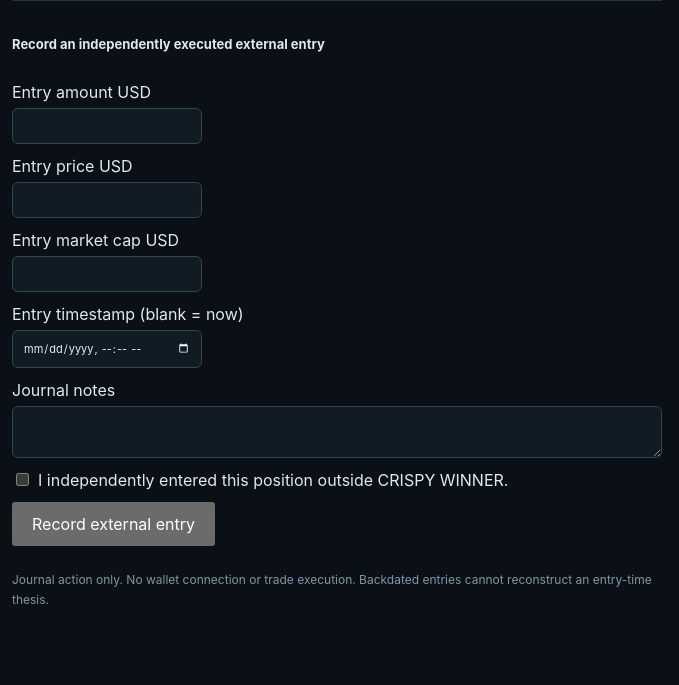
Test: external position form requires positive values and explicit confirmation
Click the button "Record external entry": click(114, 524) x1=12 y1=502 x2=215 y2=546
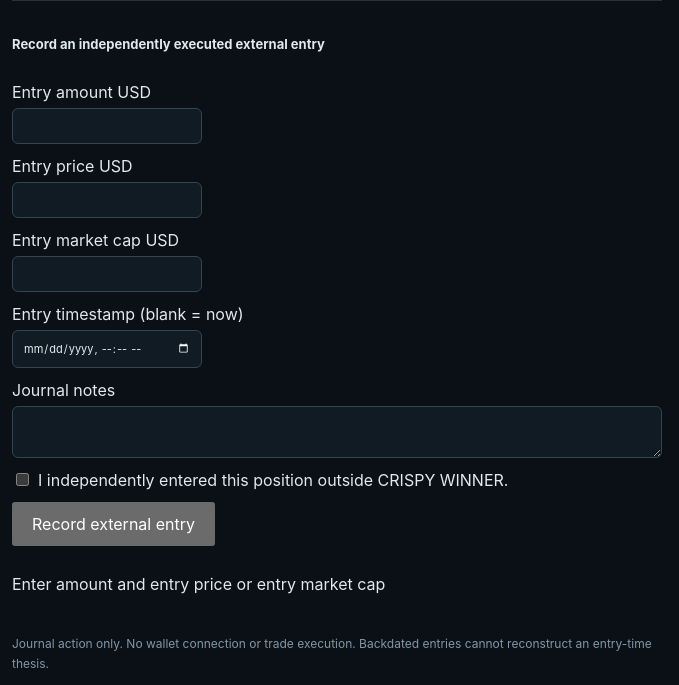
Now the text "Enter amount and entry price or entry market cap" is shown, box x1=12 y1=574 x2=385 y2=594
In the field labelled "Entry amount USD": (107, 126) x1=12 y1=108 x2=202 y2=144, type "4"
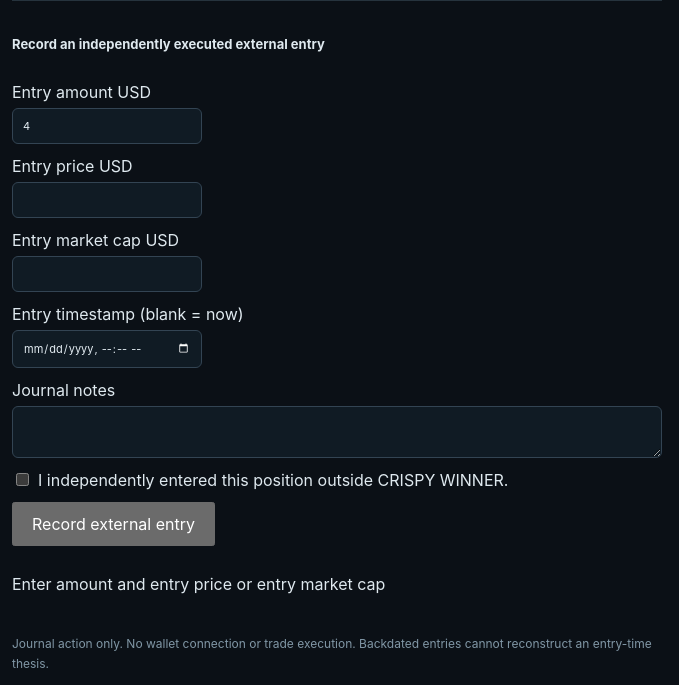
In the field labelled "Entry price USD": (107, 200) x1=12 y1=182 x2=202 y2=218, type "1"
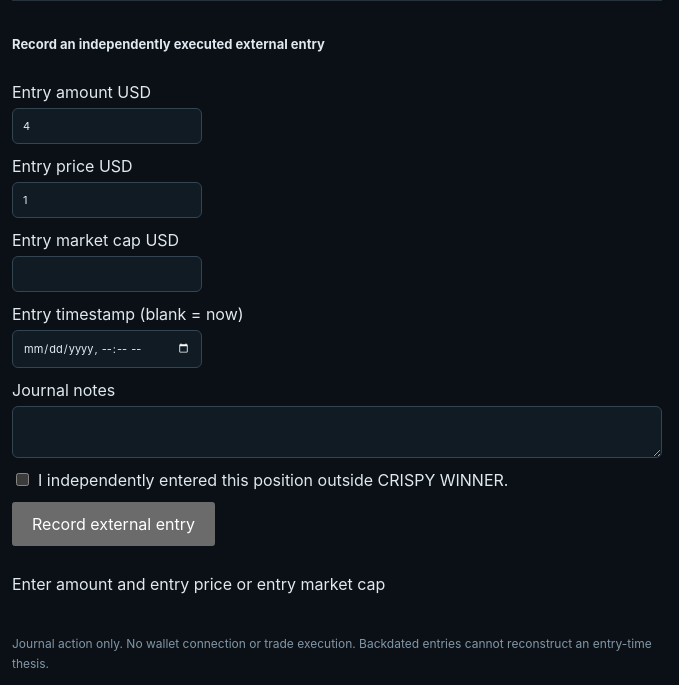
Click the button "Record external entry": click(114, 524) x1=12 y1=502 x2=215 y2=546
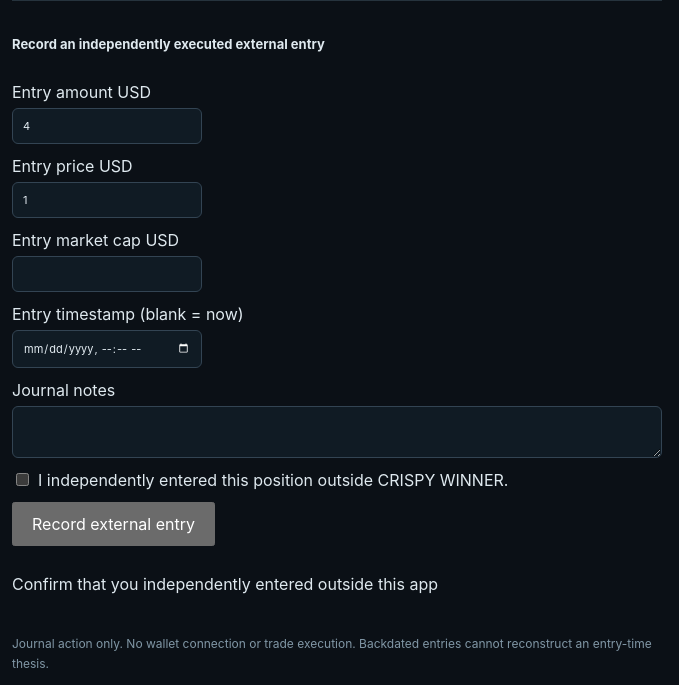
Now the text "Confirm that you independently entered outside this app" is shown, box x1=12 y1=574 x2=438 y2=594
Click the checkbox: click(22, 480) x1=16 y1=473 x2=29 y2=486
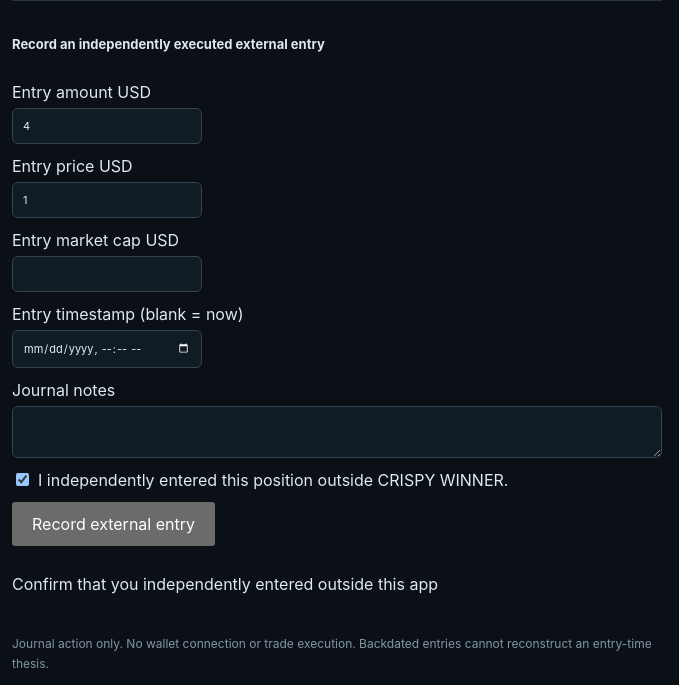
Click the button "Record external entry": click(114, 524) x1=12 y1=502 x2=215 y2=546
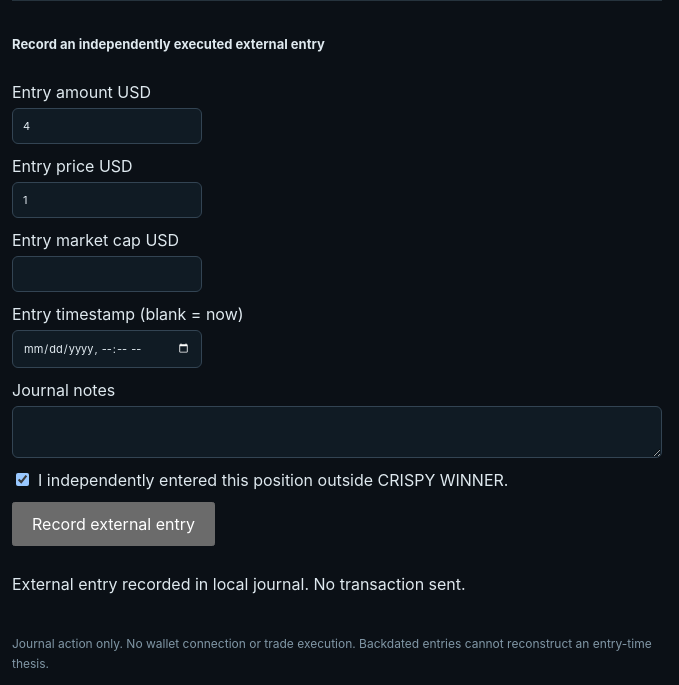
Now the text "External entry recorded in local journal. No transaction sent." is shown, box x1=12 y1=574 x2=466 y2=594
